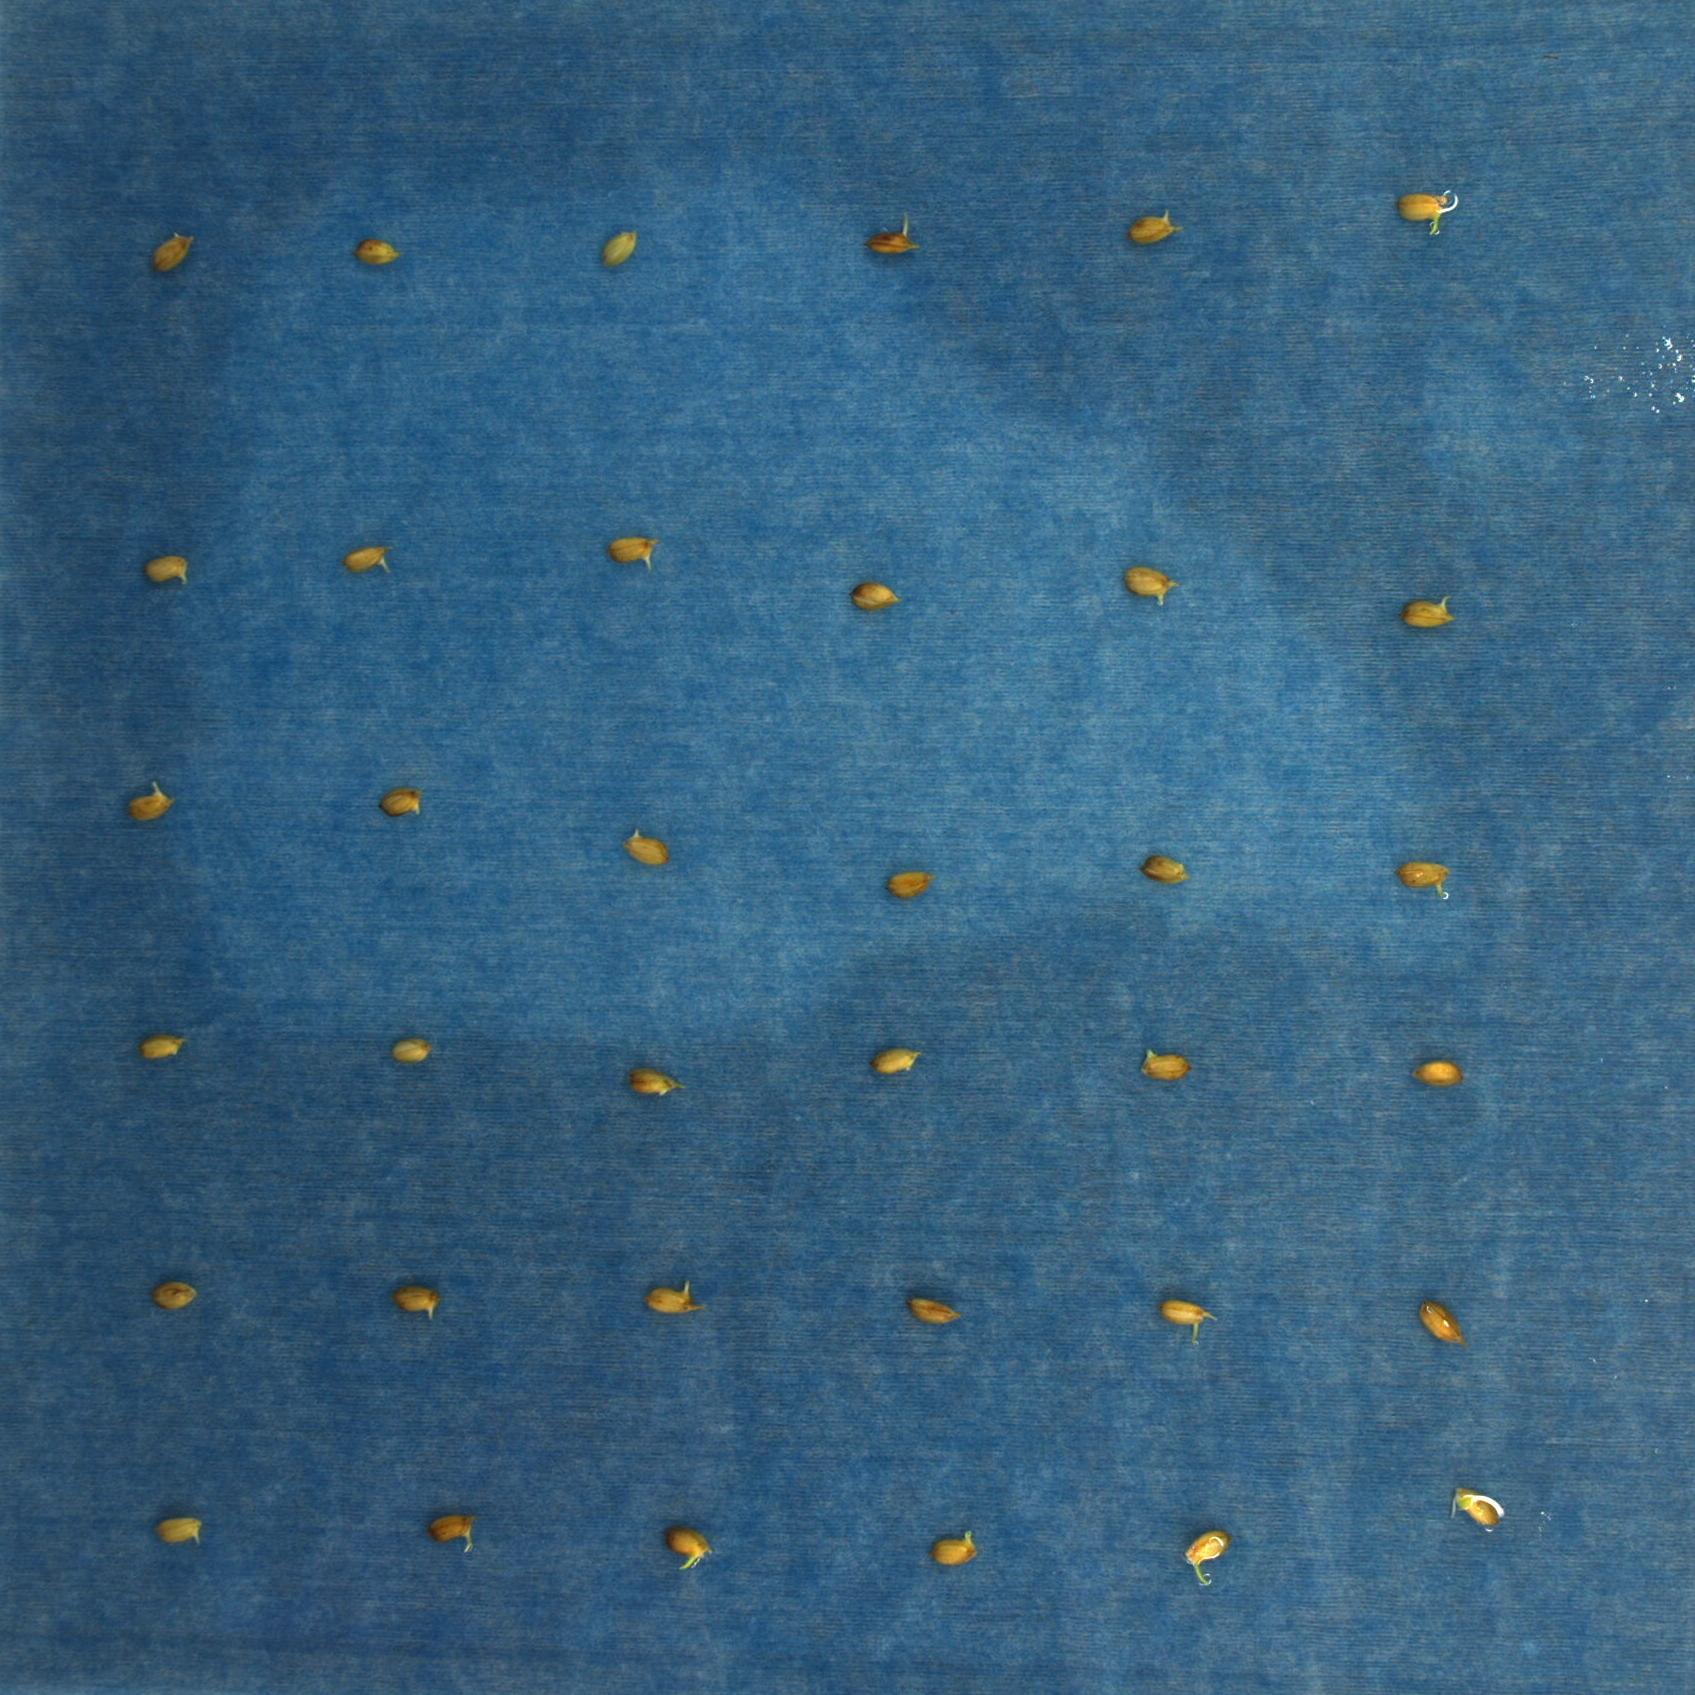not sprout: (1440, 1484, 1501, 1538), (1392, 189, 1461, 236), (863, 210, 919, 261), (646, 1274, 705, 1319), (1395, 858, 1456, 900), (1122, 210, 1181, 251), (1416, 1301, 1467, 1347), (1167, 1296, 1218, 1340), (931, 1520, 976, 1568), (632, 1059, 683, 1101), (622, 826, 671, 869), (427, 1510, 477, 1552), (1138, 1045, 1189, 1085), (1124, 567, 1177, 605), (847, 581, 900, 619), (147, 1274, 200, 1313), (154, 1509, 206, 1548), (1402, 591, 1456, 629), (869, 1045, 925, 1080), (147, 230, 192, 273), (601, 539, 657, 573), (1132, 852, 1187, 886), (343, 542, 393, 579), (911, 1293, 962, 1329), (397, 1281, 439, 1324), (127, 781, 169, 820), (594, 230, 640, 265), (144, 557, 192, 588), (357, 237, 400, 272), (1412, 1059, 1461, 1088), (140, 1034, 185, 1063), (380, 793, 424, 820), (888, 869, 925, 899), (386, 1038, 427, 1065)
sprout: (1180, 1527, 1231, 1585), (663, 1524, 709, 1569)
